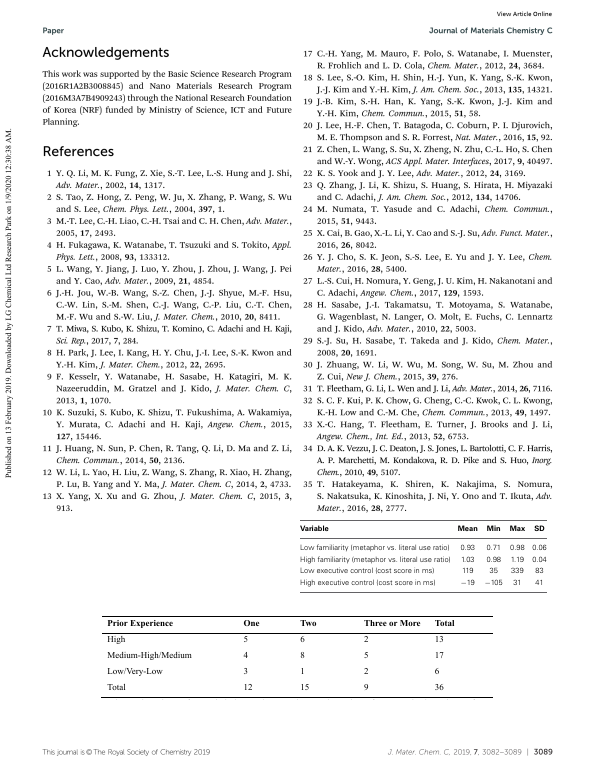borderless: (101, 614, 493, 697), (299, 519, 547, 593)
cell: (298, 556, 451, 565), (298, 544, 450, 553), (298, 579, 436, 588), (298, 567, 435, 576), (106, 651, 192, 661), (106, 618, 173, 628), (362, 618, 421, 628), (106, 667, 163, 677), (298, 525, 329, 533), (433, 618, 455, 628), (106, 635, 126, 645), (106, 683, 126, 693), (242, 618, 260, 628), (299, 618, 317, 628), (483, 579, 503, 588), (456, 525, 478, 533), (508, 544, 525, 553), (459, 544, 475, 553), (485, 544, 501, 553), (531, 544, 547, 553), (459, 556, 475, 565), (485, 556, 501, 565), (531, 556, 547, 565), (459, 579, 475, 588), (508, 525, 525, 533), (509, 556, 524, 565), (509, 567, 524, 576), (485, 525, 501, 533), (460, 567, 474, 576), (433, 635, 444, 645), (433, 651, 444, 661), (242, 683, 253, 693), (299, 683, 310, 693), (433, 683, 444, 693), (533, 525, 545, 533), (488, 567, 498, 576), (534, 567, 544, 576), (512, 579, 522, 588), (534, 579, 544, 588), (362, 635, 369, 645), (362, 651, 369, 661), (362, 667, 369, 677), (433, 667, 440, 677), (362, 683, 369, 693), (242, 635, 248, 645), (299, 635, 305, 645), (242, 651, 248, 661), (299, 651, 305, 661), (242, 667, 248, 677), (299, 667, 305, 677)
